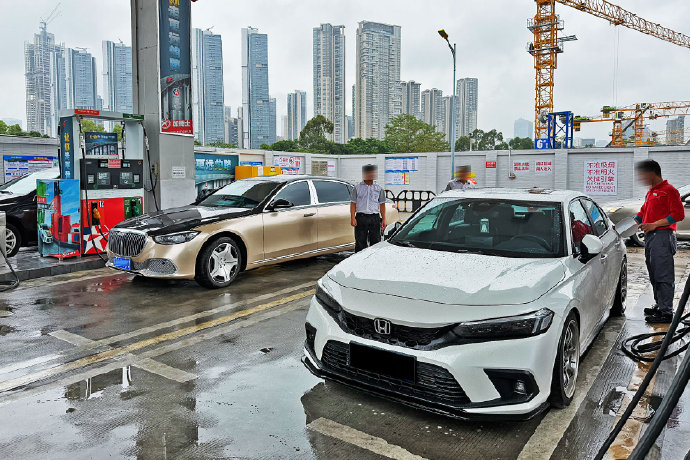other: (299, 180, 637, 422), (96, 176, 410, 280)
